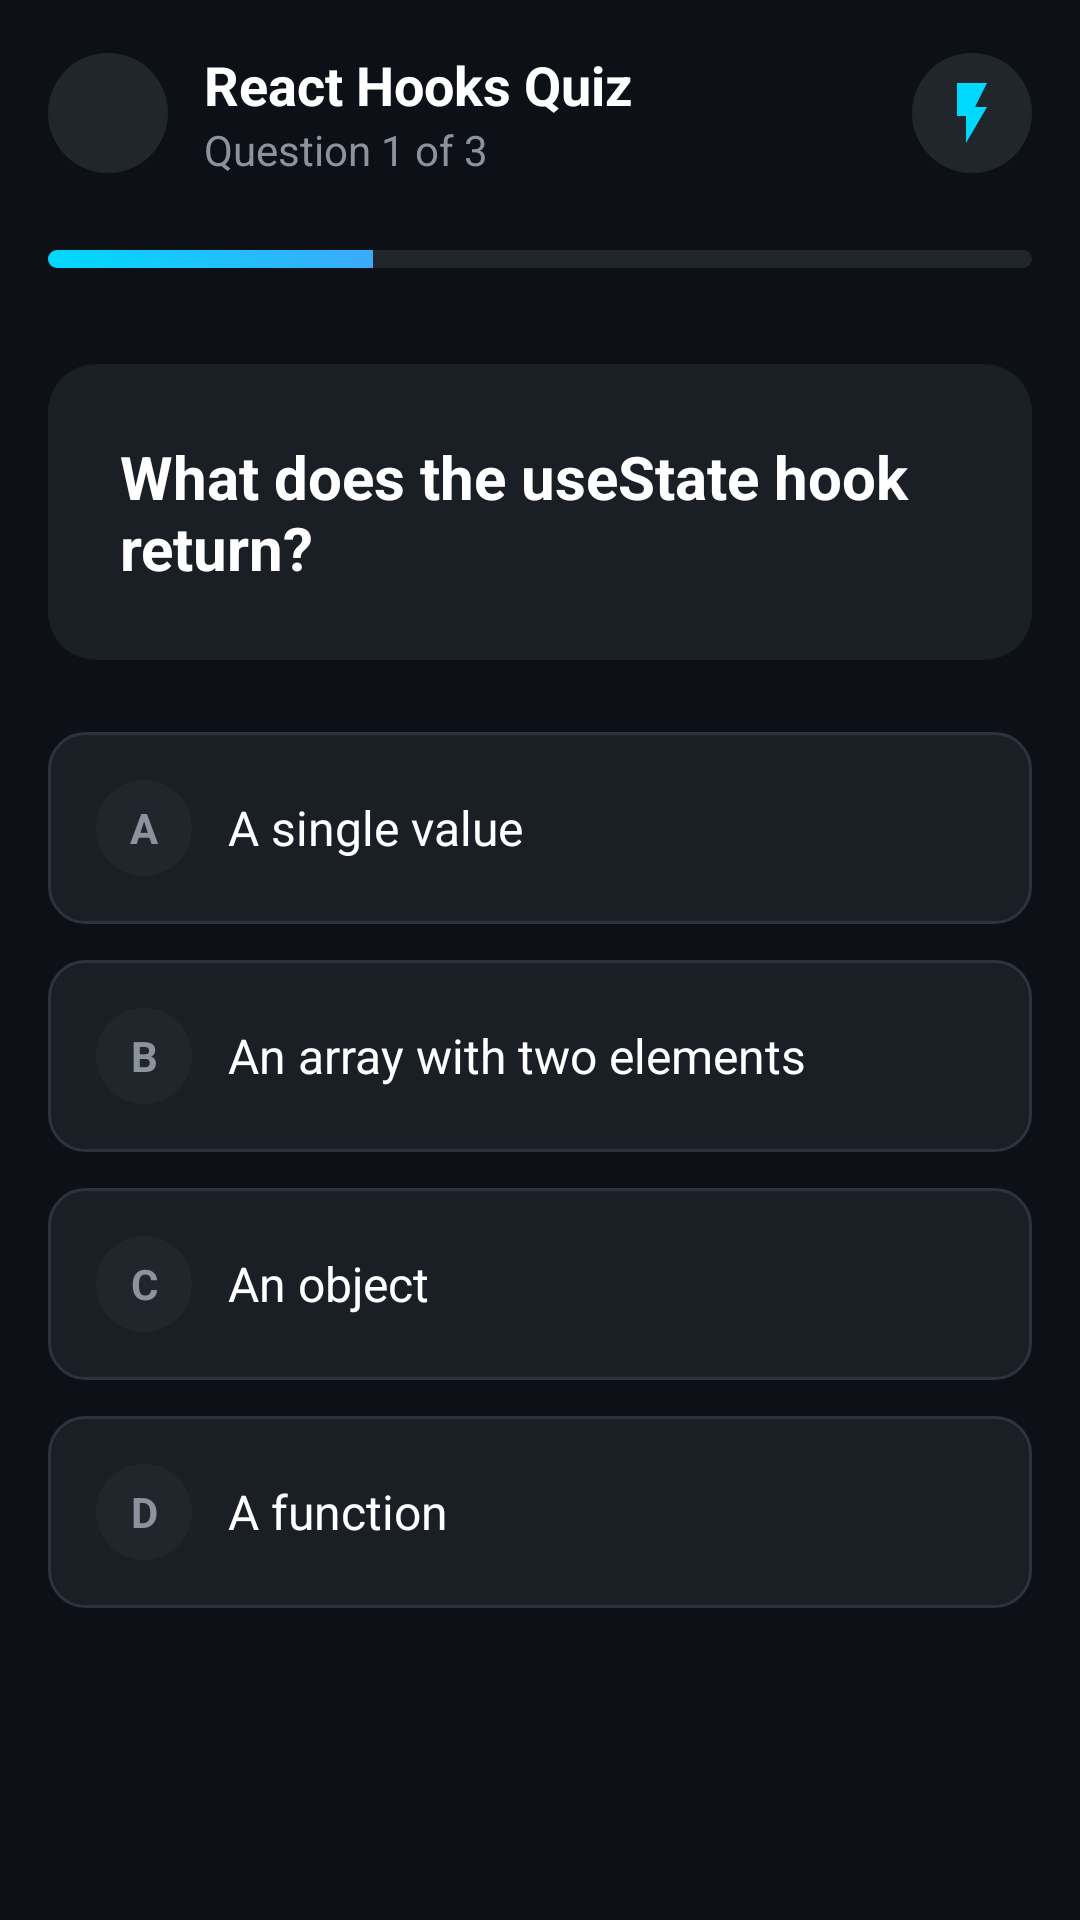

Icon bounding boxes for this 1080×1920 phone screenshot, format rect(x1, y1, x2, y2):
lightning: rect(957, 83, 987, 143)
